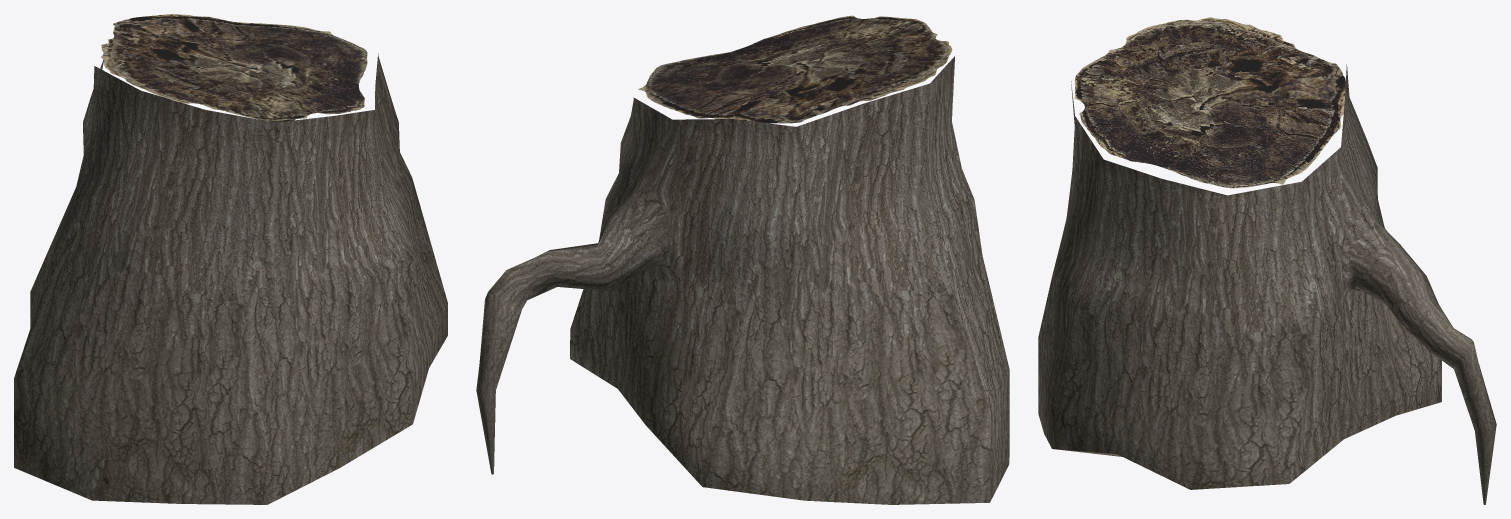
Rendered from oak-stump.gltf.
The picture shows the model from 3 angles, left to right: view 1: azimuth 30°, elevation 25°; view 2: azimuth 150°, elevation 25°; view 3: azimuth 270°, elevation 25°; orthographic projection. The views are drawn at different scales.
Parts seen in each view (by area): view 1: White oak stump; view 2: White oak stump; view 3: White oak stump.
Part boxes in pixels (box(x1,y1,x2,y2)): White oak stump: box(14, 14, 447, 504); White oak stump: box(476, 15, 1009, 504); White oak stump: box(1038, 17, 1496, 504).
Size of the model in its own units: 120 by 117 by 124.
Materials: 2 (2 with a texture image).
